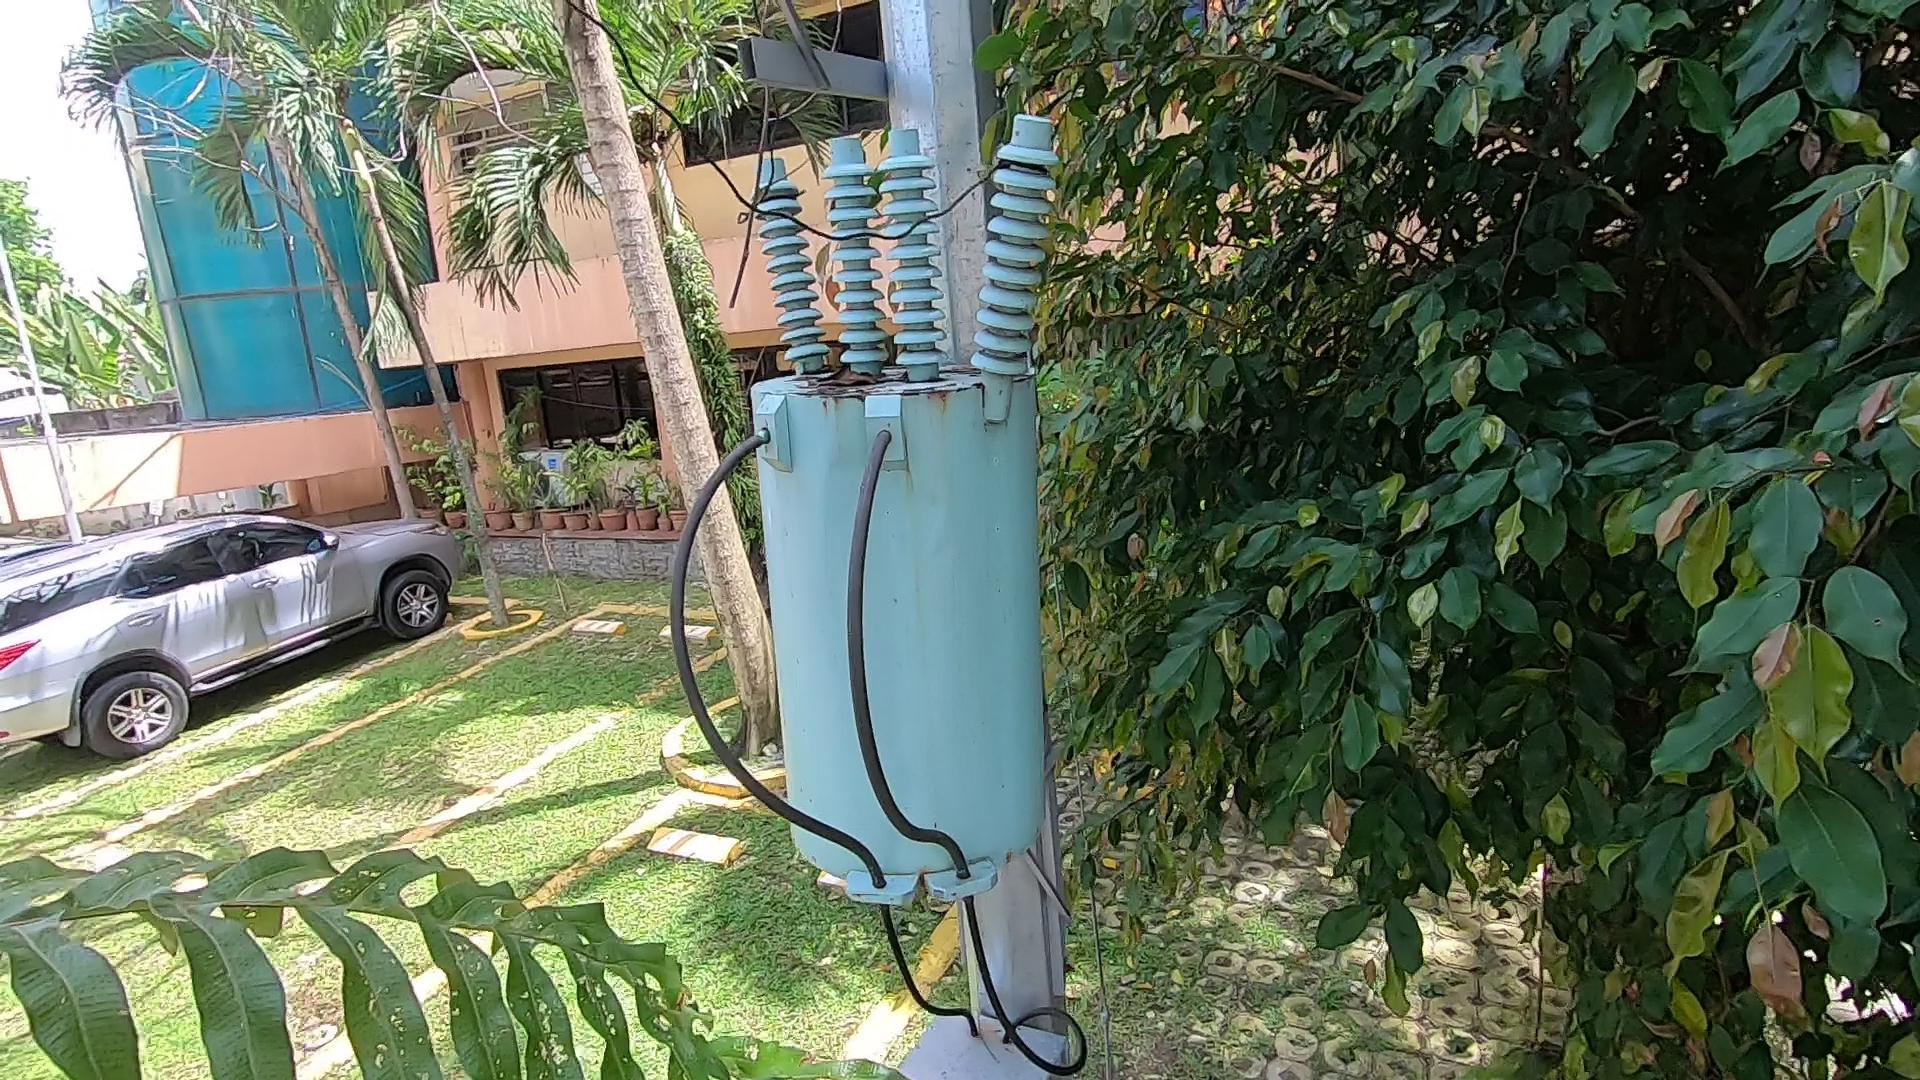leaf: (794, 353, 885, 400)
tree branch: (699, 1, 869, 324)
